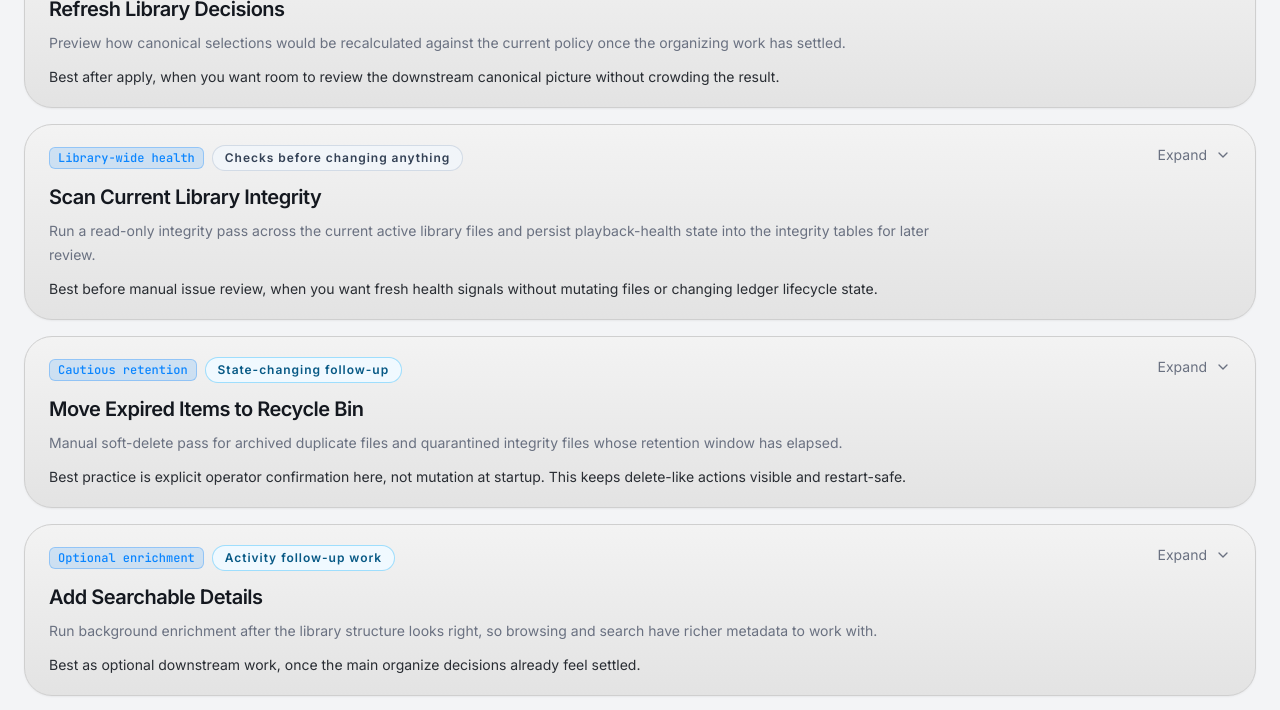
Test case: Import page › shows retention readiness and allows recycle-bin confirmation
Later steps or results of the test are not shown.
(page scrolled)
Expected: the heading "Move Expired Items to Recycle Bin" is shown, x1=49 y1=396 x2=363 y2=420
Click the button "Move Expired Items to Recycle Bin" at {"x": 640, "y": 422}, box x1=25 y1=336 x2=1255 y2=506
(page scrolled)
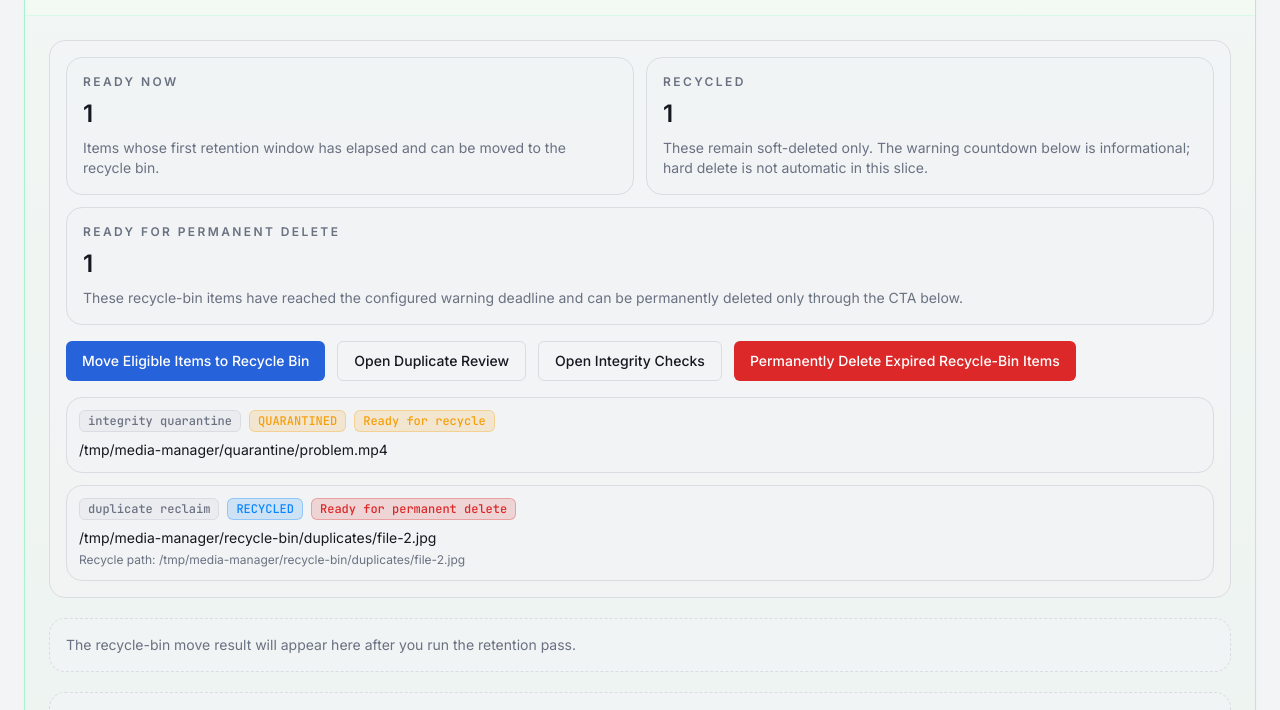
Expected: the text "Ready now" is shown, x1=83 y1=74 x2=179 y2=88
Expected: the text "Recycled" is shown, x1=663 y1=74 x2=746 y2=88
